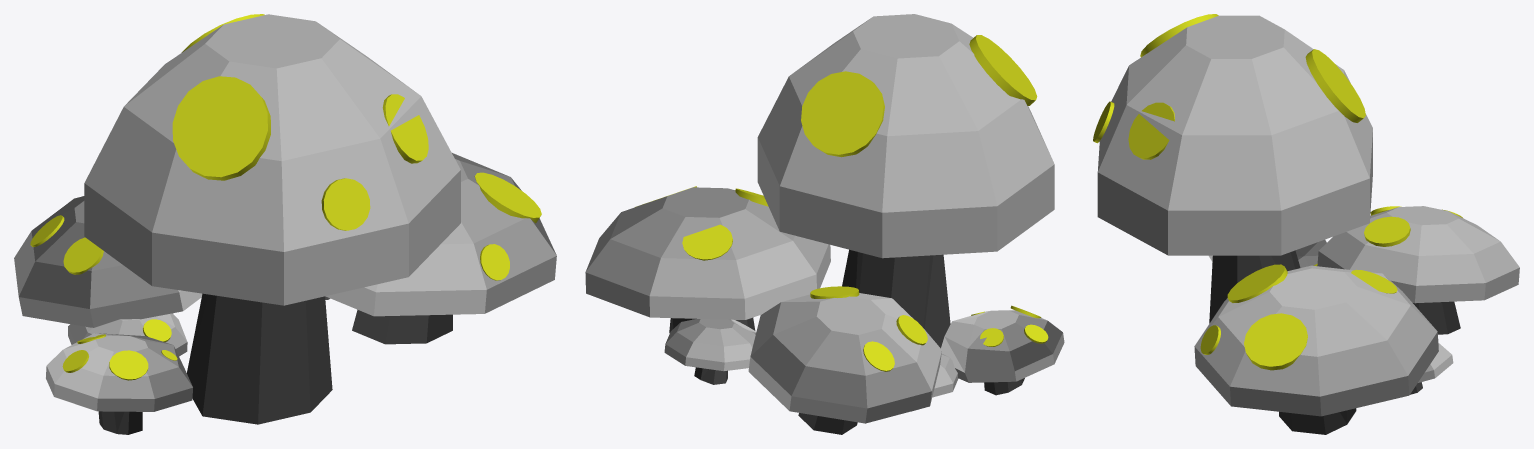
The model's file is GrownMushroom.fbx.
The picture shows the model from 3 angles, left to right: view 1: azimuth 30°, elevation 25°; view 2: azimuth 150°, elevation 25°; view 3: azimuth 270°, elevation 25°; orthographic projection. The views are drawn at different scales.
Visible parts, largest first — view 1: Object003, mushroom, Cylinder001, Cylinder007, Object001, Cylinder003, Cylinder004, Cylinder014, Cylinder006, Cylinder005; view 2: Object003, mushroom, Cylinder011, Object002, Cylinder001, Cylinder008, Object001, Cylinder015, Cylinder014, Cylinder013; view 3: Object003, mushroom, Cylinder004, Cylinder011, Cylinder003, Cylinder002, Cylinder013, Object002, Cylinder001, Cylinder008, Cylinder005, Cylinder007.
Part boxes in pixels (x1=…): Object003: x1=84, y1=14, x2=460, y2=424; mushroom: x1=14, y1=153, x2=556, y2=434; Cylinder001: x1=172, y1=76, x2=270, y2=180; Cylinder007: x1=321, y1=178, x2=370, y2=230; Object001: x1=68, y1=313, x2=187, y2=356; Cylinder003: x1=382, y1=94, x2=428, y2=163; Cylinder004: x1=474, y1=172, x2=541, y2=223; Cylinder014: x1=63, y1=237, x2=103, y2=274; Cylinder006: x1=109, y1=350, x2=148, y2=380; Cylinder005: x1=480, y1=244, x2=509, y2=280; Object003: x1=757, y1=14, x2=1054, y2=348; mushroom: x1=585, y1=187, x2=1064, y2=434; Cylinder011: x1=801, y1=71, x2=884, y2=157; Object002: x1=664, y1=319, x2=755, y2=384; Cylinder001: x1=969, y1=35, x2=1037, y2=105; Cylinder008: x1=682, y1=224, x2=732, y2=260; Object001: x1=911, y1=354, x2=958, y2=411; Cylinder015: x1=863, y1=341, x2=894, y2=371; Cylinder014: x1=896, y1=315, x2=927, y2=345; Cylinder013: x1=810, y1=286, x2=859, y2=298; Object003: x1=1097, y1=15, x2=1372, y2=323; mushroom: x1=1194, y1=206, x2=1519, y2=434; Cylinder004: x1=1244, y1=313, x2=1307, y2=370; Cylinder011: x1=1305, y1=49, x2=1365, y2=122; Cylinder003: x1=1128, y1=102, x2=1174, y2=159; Cylinder002: x1=1227, y1=264, x2=1287, y2=302; Cylinder013: x1=1364, y1=216, x2=1410, y2=246; Object002: x1=1410, y1=343, x2=1453, y2=394; Cylinder001: x1=1140, y1=14, x2=1218, y2=57; Cylinder008: x1=1351, y1=269, x2=1397, y2=293; Cylinder005: x1=1200, y1=325, x2=1220, y2=354; Cylinder007: x1=1093, y1=101, x2=1114, y2=143.
Bounding box in the file's own units: 40.67 × 28.67 × 35.34.
